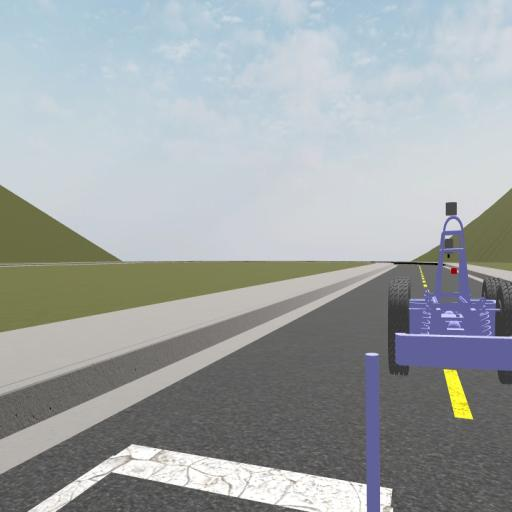ERP-42: (388, 202, 512, 384)
